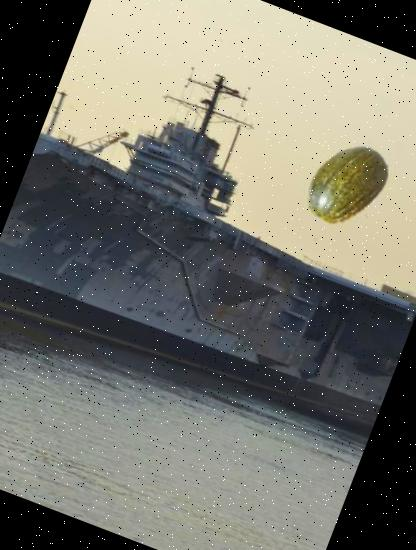Melon: (289, 129, 407, 247)
